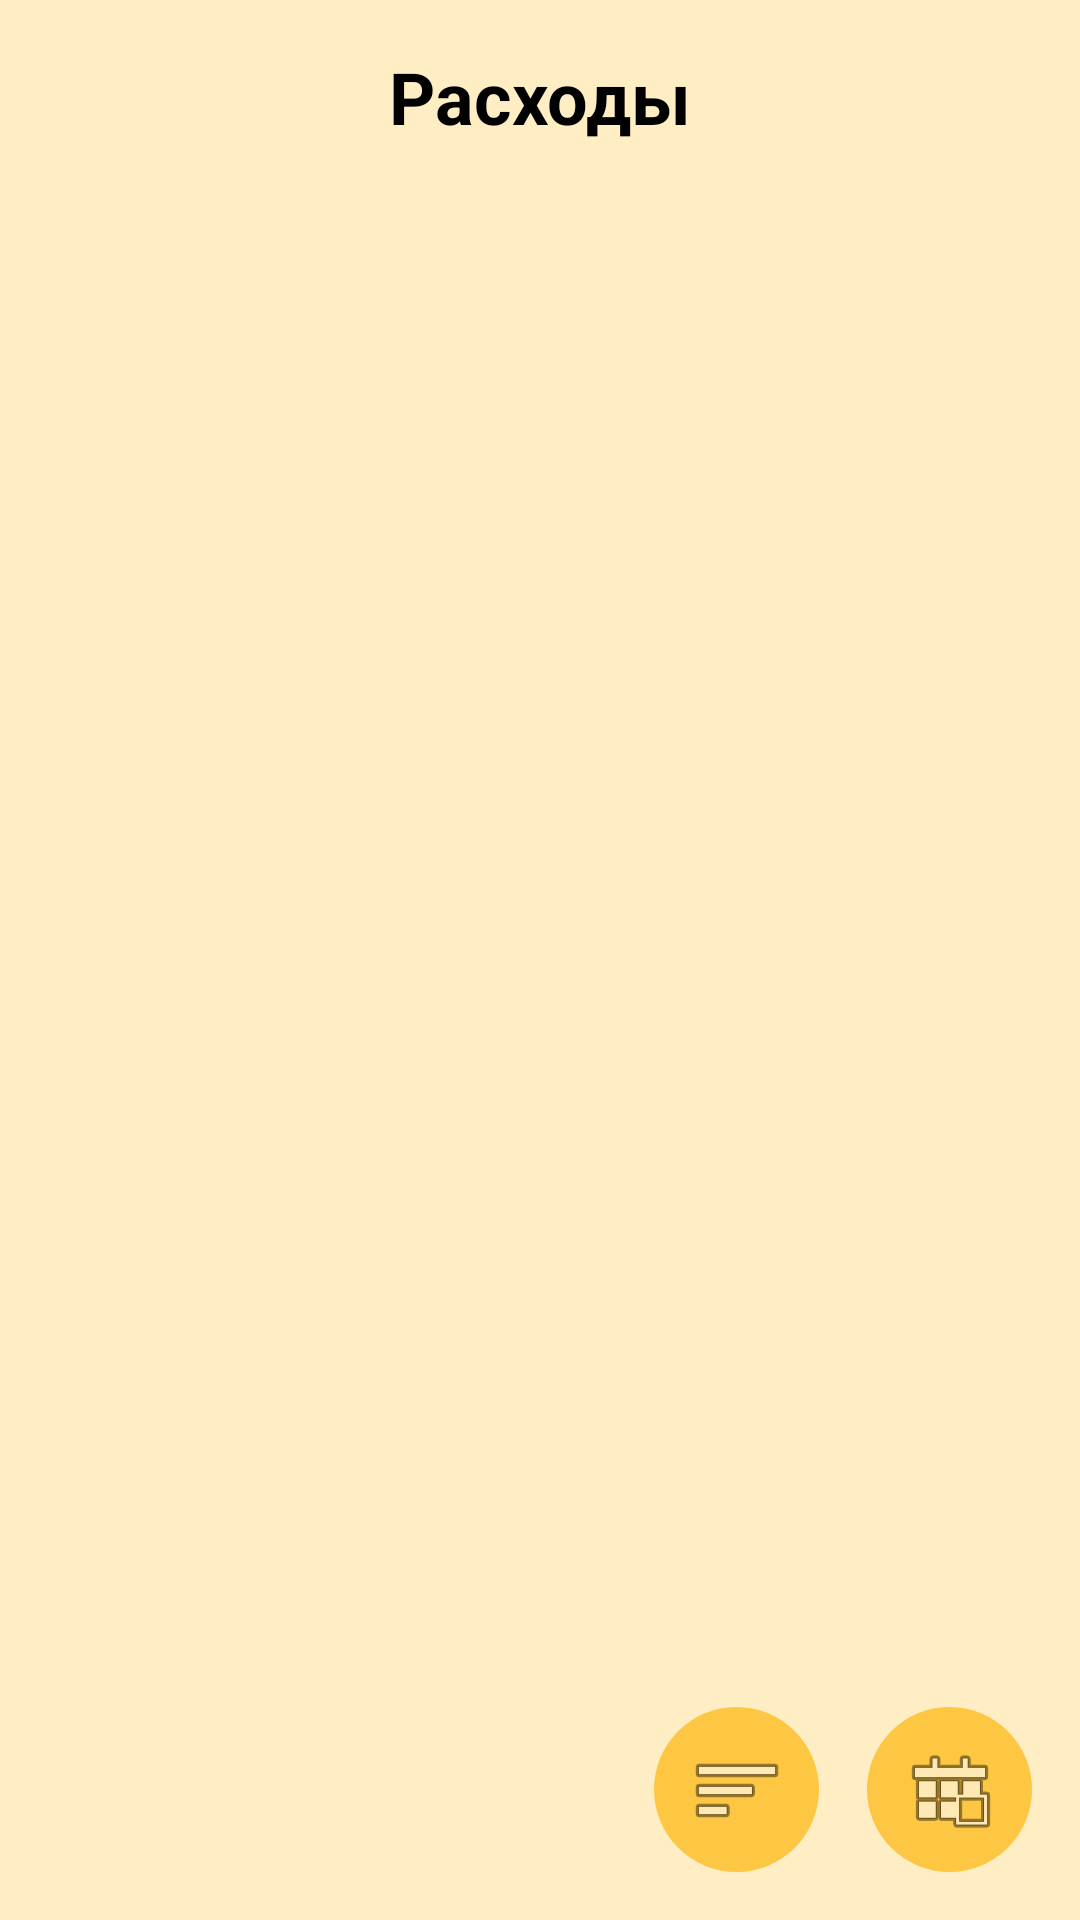

Named icons in this screenshot (1080w x 1920h) and their bounding boxes, [x1,y1,x2,y2]:
sort by size: [654,1707,819,1872]
today: [867,1707,1032,1872]
